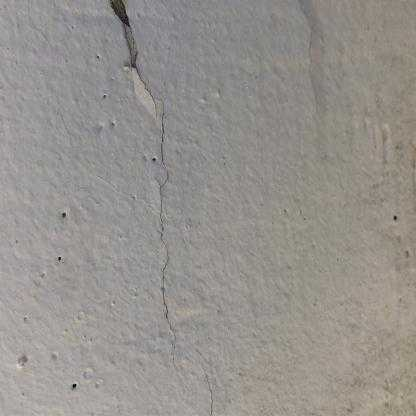crack: (158, 97, 178, 368), (194, 339, 213, 415)
